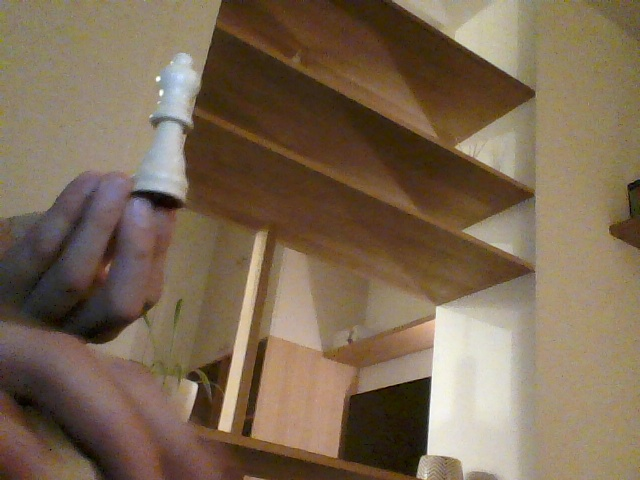schaak: (129, 52, 202, 204)
